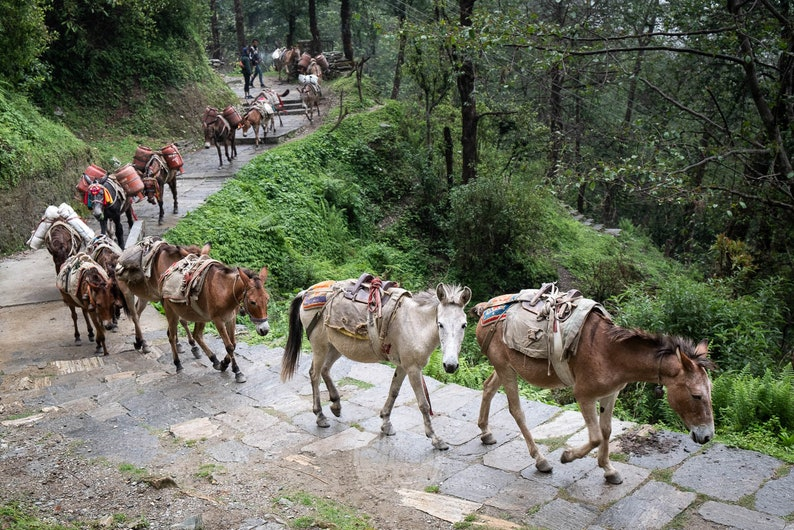equine: (470, 283, 723, 483), (274, 266, 486, 461), (149, 247, 274, 393), (108, 237, 206, 359), (48, 251, 134, 375), (68, 164, 144, 248), (23, 201, 98, 284), (128, 148, 196, 230), (197, 109, 255, 185), (283, 75, 339, 125), (233, 99, 277, 151)
